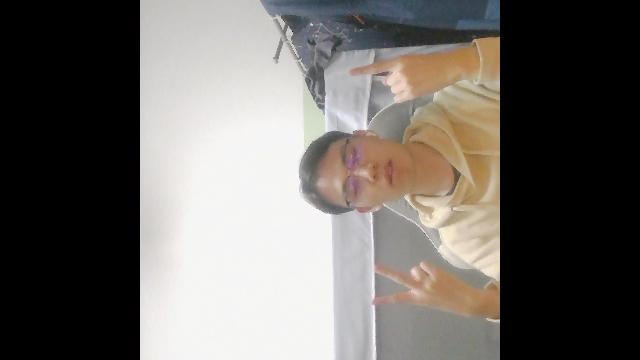one: (350, 46, 480, 102)
yes: (372, 260, 500, 316)
